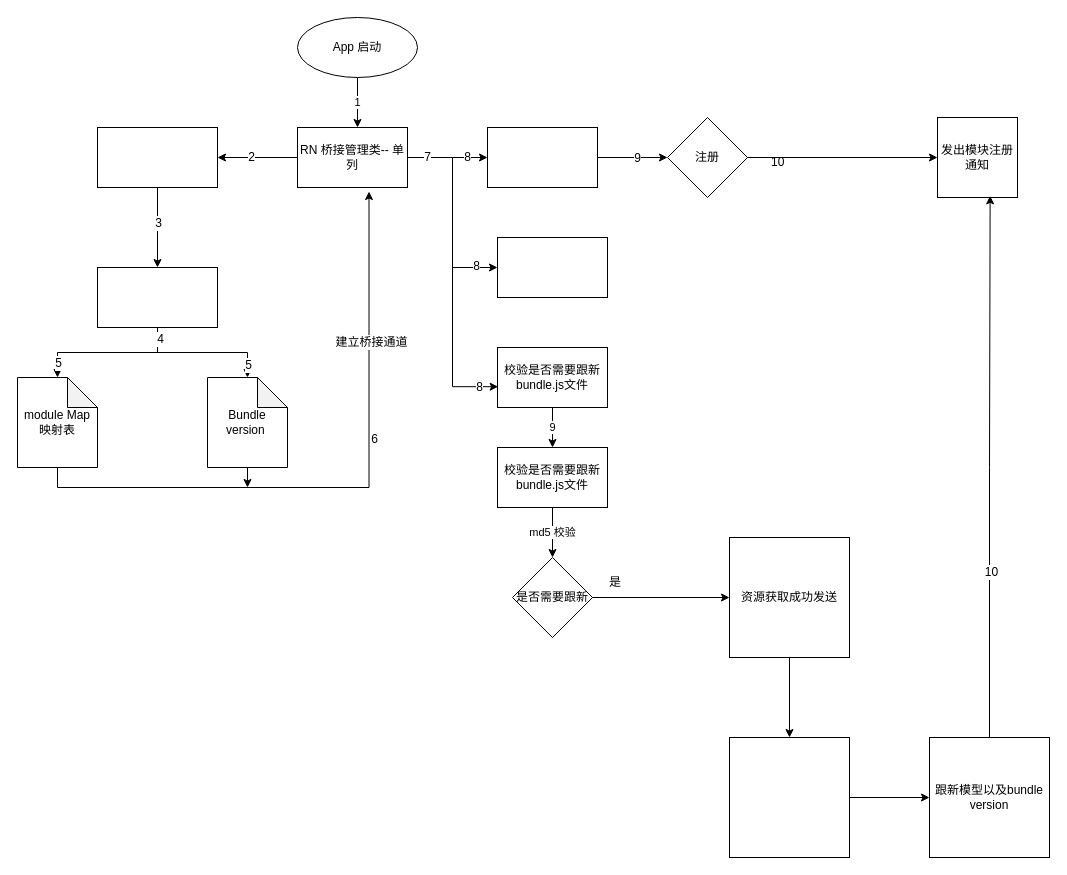
Image size: 1067x875. Some labels were removed from this diagram. The box of each missing label's shape, as (x1, y1, x2, y2) in pixels:
bundle.js资源: (96, 266, 218, 328)
RN Resource 资源管理类: (96, 126, 218, 188)
开启js资源调度: (496, 236, 608, 298)
模块页面注册: (486, 126, 598, 188)
清除old的js资源文件: (728, 736, 850, 858)
